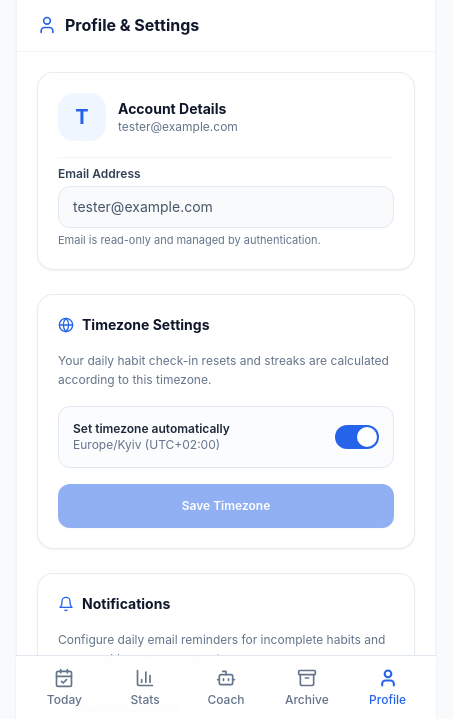
Test: ProfilePage timezone UX › type to filter filters the timezone list (e.g. "kyiv", "new york")
This screenshot has width=453, height=719.
Click the switch named "set timezone automatically". click: click(357, 436)
box: [335,424,379,448]
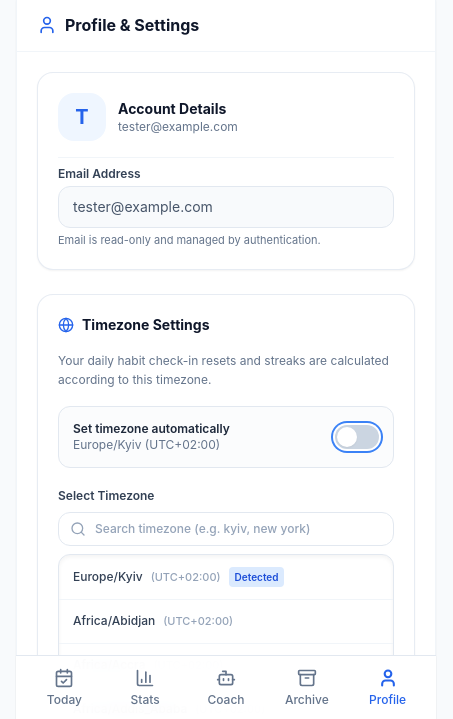
Type "new york" into the field with placeholder "Search timezone (e.g. kyiv, new york)". click: (226, 528)
box: [58,512,394,546]
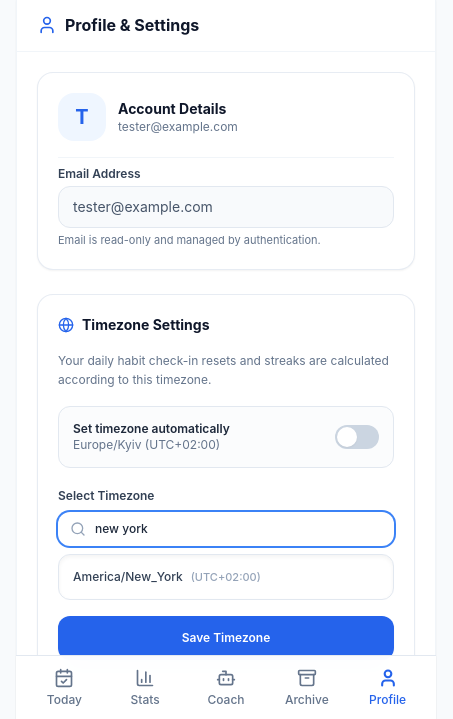
Expected: the number of options is 1, [73,568,261,584]
Expected: the option shows "America/New_York", [73,568,261,584]
Replace the text in the field with placeholder "Search timezone (e.g. kyiv, new york)" with "kyiv". click: (226, 528)
box: [58,512,394,546]
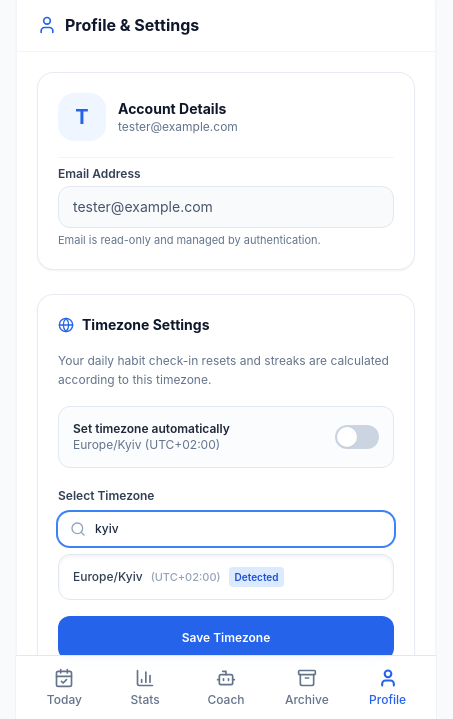
Expected: the option shows "Europe/Kyiv", [73,566,284,586]
Expected: the number of options is 1, [73,566,284,586]
